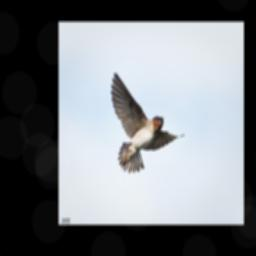Swallow: (109, 70, 185, 176)
